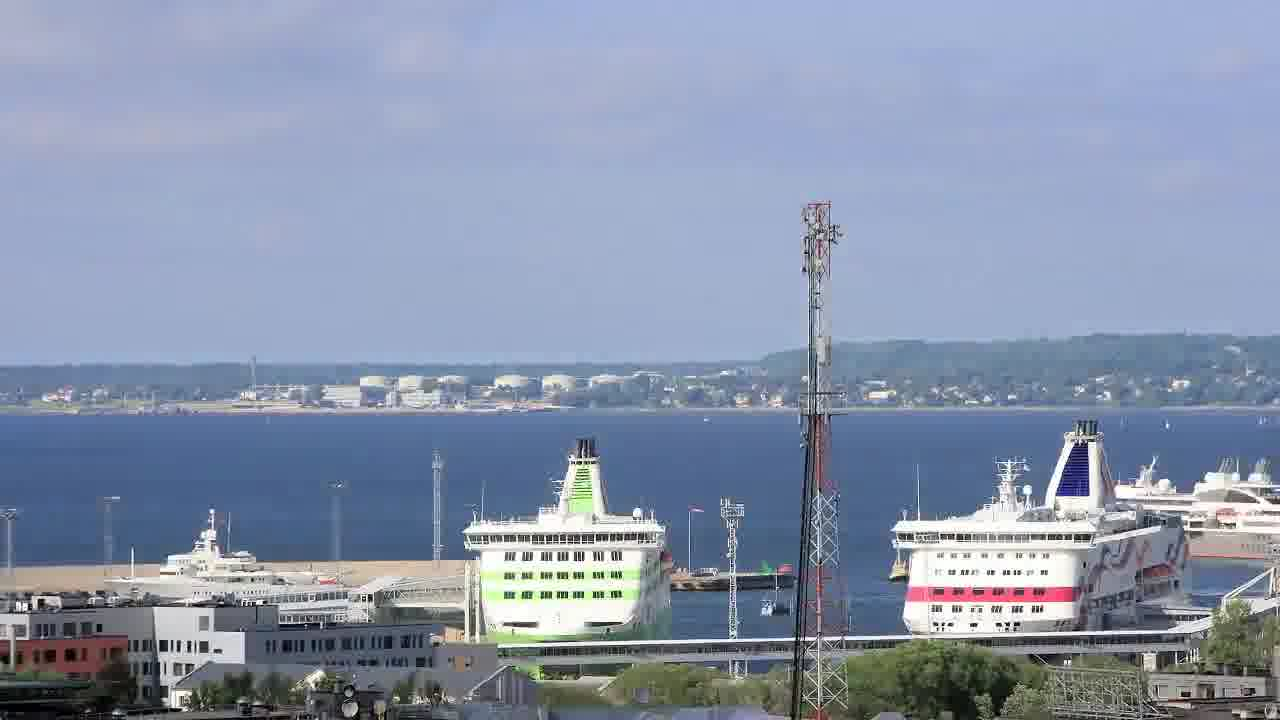type-0: (878, 543, 909, 590)
type-3: (868, 415, 1225, 638), (436, 434, 694, 670), (91, 509, 361, 607), (1095, 455, 1280, 571)
type-4: (753, 584, 800, 626)
